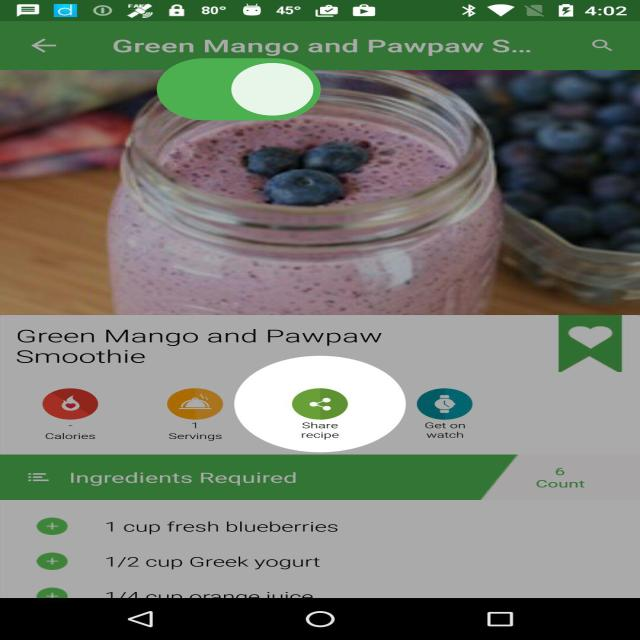social proof: (150, 34, 328, 149)
